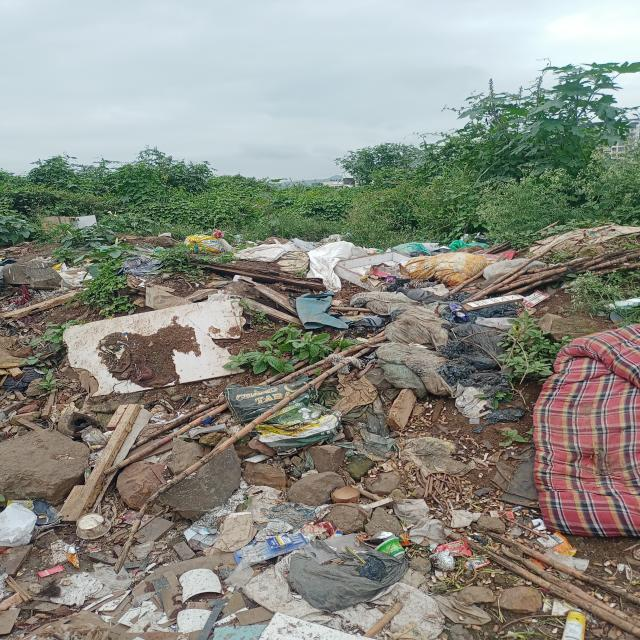garbage: (161, 230, 640, 431), (5, 498, 439, 640), (2, 249, 156, 313)
